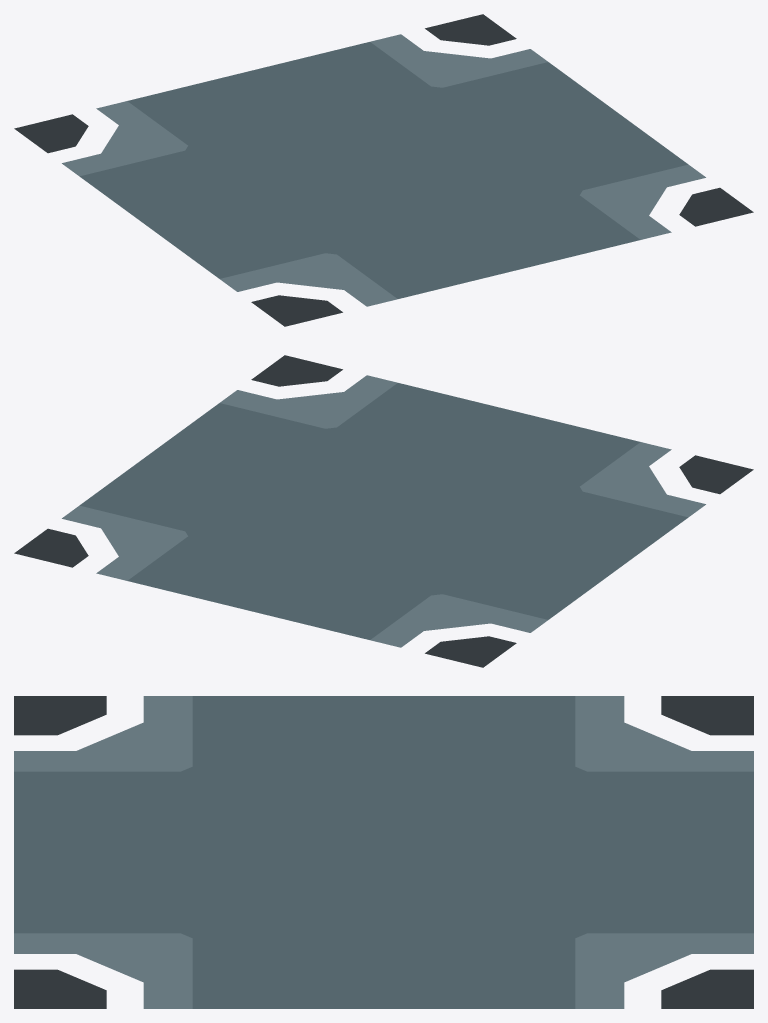
The model's file is Ceiling_type_C_032.glb.
3 renders of one model, top to bottom at view 1: azimuth 30°, elevation 25°; view 2: azimuth 150°, elevation 25°; view 3: azimuth 270°, elevation 25°, orthographic. The views are drawn at different scales.
Visible parts, largest first — view 1: Ceiling_type_C_032; view 2: Ceiling_type_C_032; view 3: Ceiling_type_C_032.
Part boxes in pixels (<box>): Ceiling_type_C_032: <box>14,14,753,326</box>; Ceiling_type_C_032: <box>14,355,753,667</box>; Ceiling_type_C_032: <box>14,696,753,1008</box>.
Size of the model in its own units: 4 by 0.0618 by 4.
2 materials, 2 textured.
